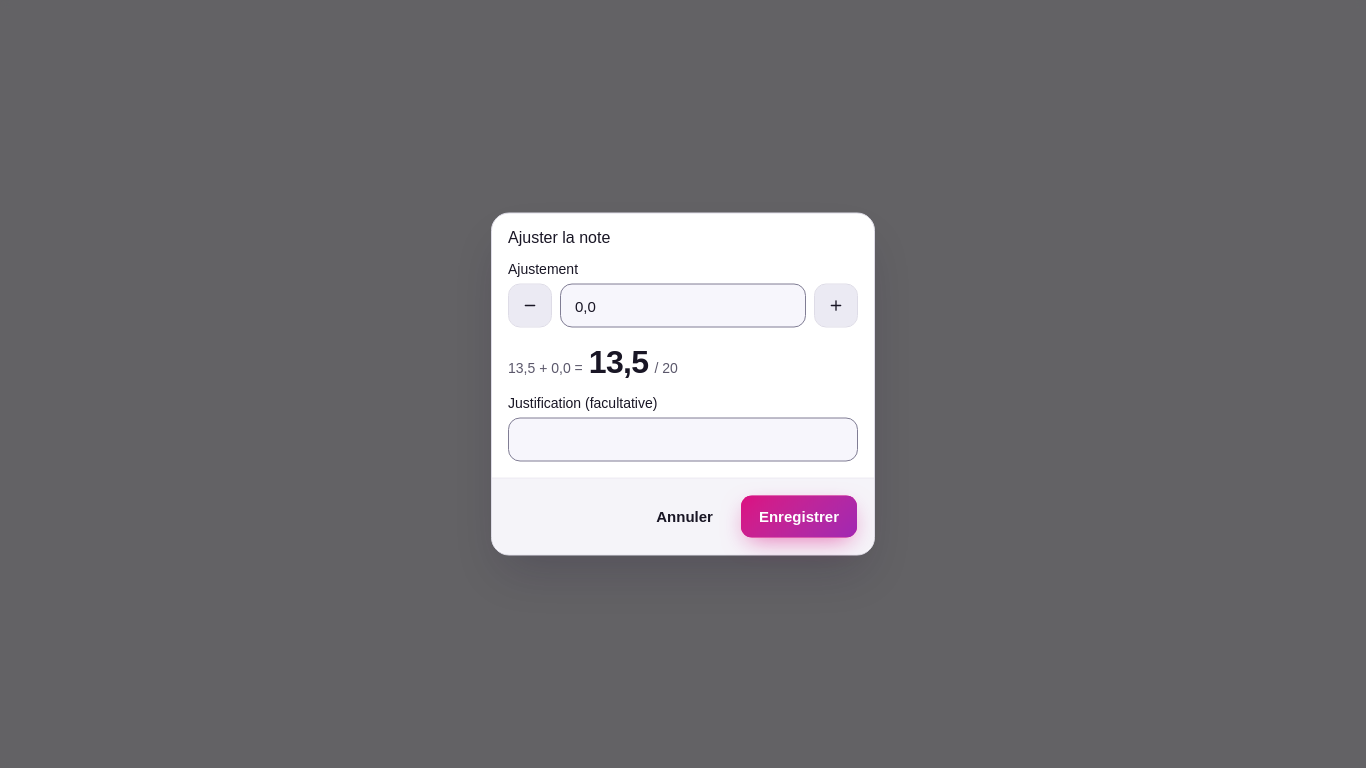
Test case: enregistrement échoué : popup ouverte avec write_error
Click the button "Enregistrer" at [799, 516], box [740,494,858,538]
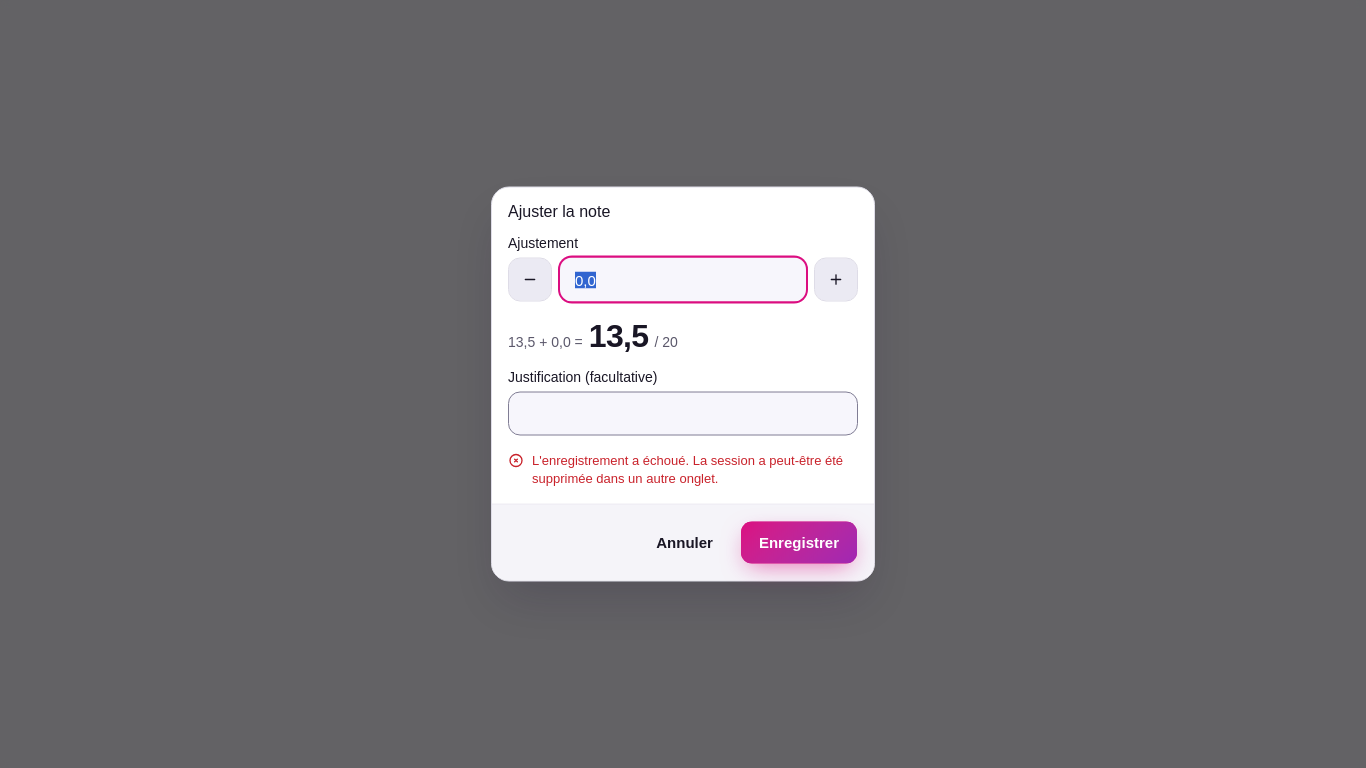
Now the message is shown, box [508,452,858,488]
